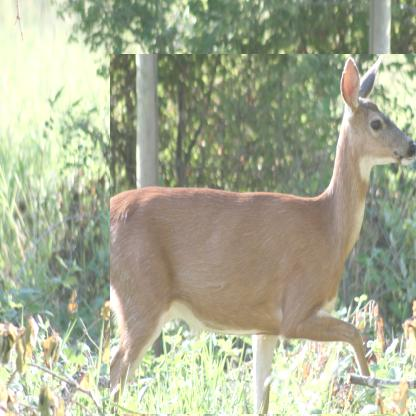Deer: (110, 54, 416, 414)
